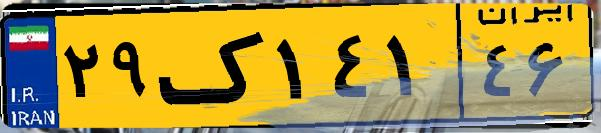1: (270, 28, 330, 110), (385, 28, 445, 110)
2: (57, 26, 110, 100)
4: (330, 28, 385, 110), (475, 38, 525, 113)
6: (525, 38, 570, 115)
9: (110, 28, 158, 98)
ک: (158, 12, 270, 120)
